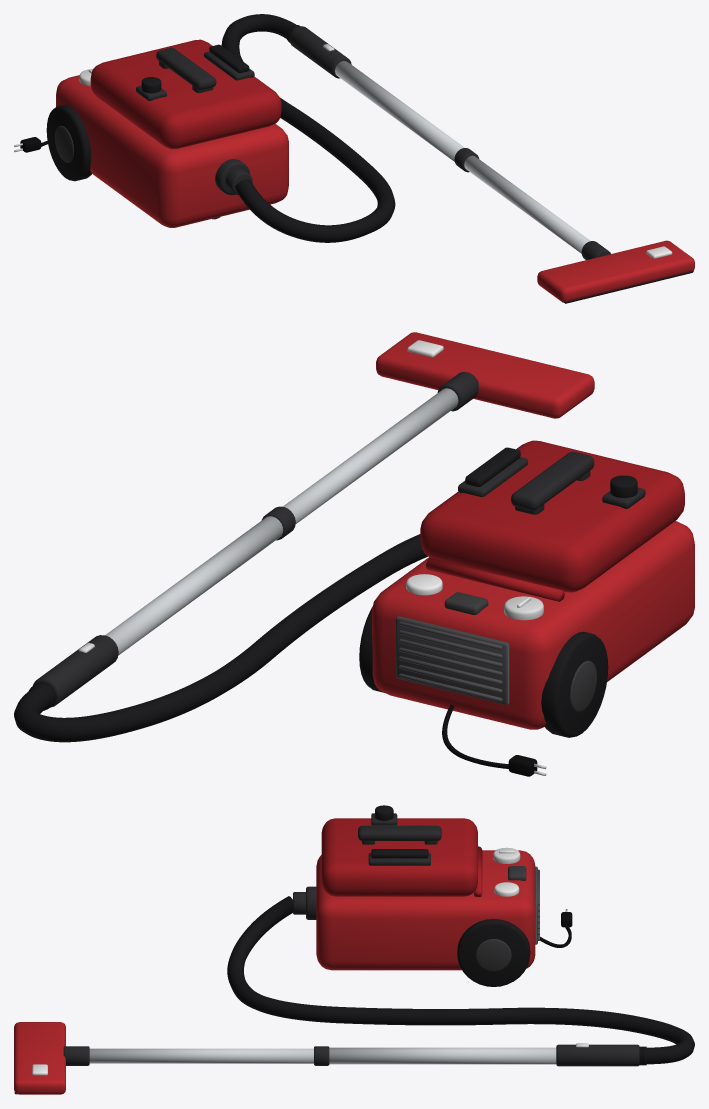
The model's file is aspirateur-traineau-realiste.glb.
The picture shows the model from 3 angles, top to bottom: view 1: azimuth 30°, elevation 25°; view 2: azimuth 150°, elevation 25°; view 3: azimuth 270°, elevation 25°; orthographic projection. The views are drawn at different scales.
Parts seen in each view (by area): view 1: aspirateur-traineau-realiste; view 2: aspirateur-traineau-realiste; view 3: aspirateur-traineau-realiste.
Boxes of the visible parts, <box> form: aspirateur-traineau-realiste: <box>14,14,694,303</box>; aspirateur-traineau-realiste: <box>14,332,694,776</box>; aspirateur-traineau-realiste: <box>14,805,694,1094</box>.
Bounding box in the file's own units: 0.814 × 0.268 × 1.31.
